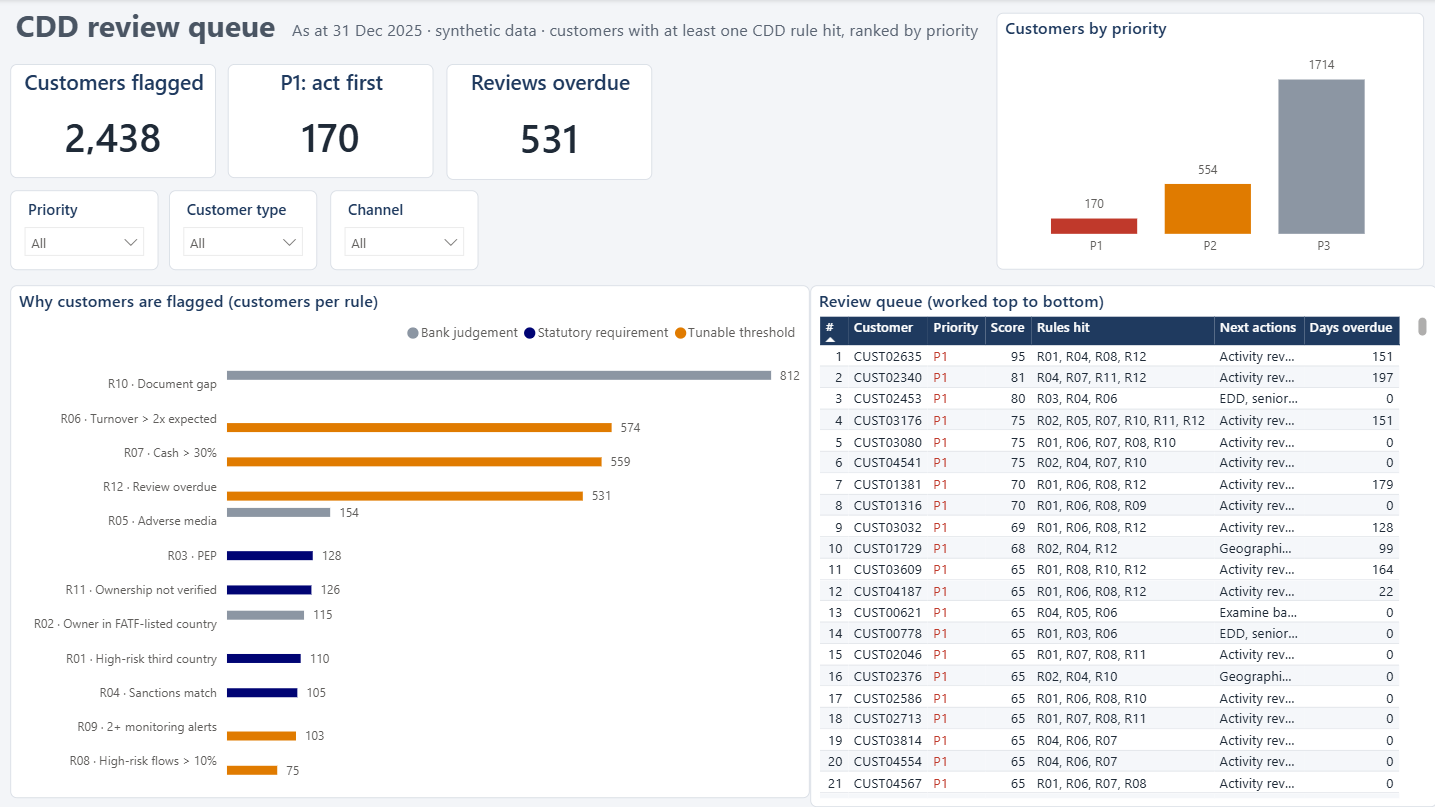

The dashboard page shown, as its layout file describes it:
{"tool":"powerbi","page":{"name":"Review queue","canvas":[1280,720],"ordinal":1},"visuals":[{"type":"textbox","box":[9.7,0,258.2,48.3],"z":0},{"type":"cardVisual","title":"Customers flagged","fields":{"Data":["review_queue.Customers in queue"]},"box":[9.8,57.5,183.6,101.6],"z":1000},{"type":"cardVisual","title":"Reviews overdue","fields":{"Data":["review_queue.Overdue reviews"]},"box":[399,57.5,183.6,102.8],"z":2000},{"type":"cardVisual","title":"P1: act first","fields":{"Data":["review_queue.P1 customers"]},"box":[203.2,57.5,183.6,101.6],"z":3000},{"type":"clusteredColumnChart","title":"Customers by priority","fields":{"Category":["review_queue.priority"],"Y":["CountNonNull(review_queue.customer_id)"]},"box":[888.6,12.2,380.6,228.9],"z":4000},{"type":"clusteredBarChart","title":"Why customers are flagged (customers per rule)","fields":{"Y":["CountNonNull(queue_reasons.customer_id)"],"Category":["cdd_rules.Rule"],"Series":["cdd_rules.Rule type"]},"box":[9.8,254.6,712.3,456.5],"z":5000},{"type":"tableEx","title":"Review queue (worked top to bottom)","fields":{"Values":["review_queue.queue_position","review_queue.customer_id","review_queue.priority","review_queue.priority_score","review_queue.reason_codes","review_queue.next_actions","review_queue.days_overdue"]},"box":[722.1,254.6,558.1,465.1],"z":6000},{"type":"slicer","fields":{"Values":["review_queue.priority"]},"box":[9.8,170.1,132.2,71],"z":7000},{"type":"slicer","fields":{"Values":["review_queue.customer_type"]},"box":[151.8,170.1,132.2,71],"z":8000},{"type":"slicer","fields":{"Values":["review_queue.channel"]},"box":[295,170.1,132.2,71],"z":9000},{"type":"textbox","box":[255.8,12.1,632.2,36.2],"z":10000}]}

Visuals, with their boxes in screenshot pixels (x1, y1, x2, y2), scaled from the page's 1280x720 canvas onto the 1435x807 screenshot:
textbox: 11,0,300,54
"Customers flagged" cardVisual: 11,64,217,178
"Reviews overdue" cardVisual: 447,64,653,180
"P1: act first" cardVisual: 228,64,434,178
"Customers by priority" clusteredColumnChart: 996,14,1423,270
"Why customers are flagged (customers per rule)" clusteredBarChart: 11,285,810,797
"Review queue (worked top to bottom)" tableEx: 810,285,1434,806
slicer - review_queue.priority: 11,191,159,270
slicer - review_queue.customer_type: 170,191,318,270
slicer - review_queue.channel: 331,191,479,270
textbox: 287,14,996,54
